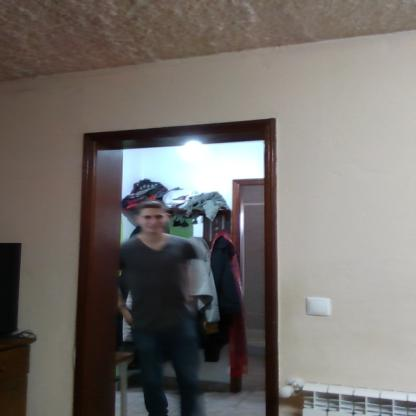open: (65, 105, 280, 416)
